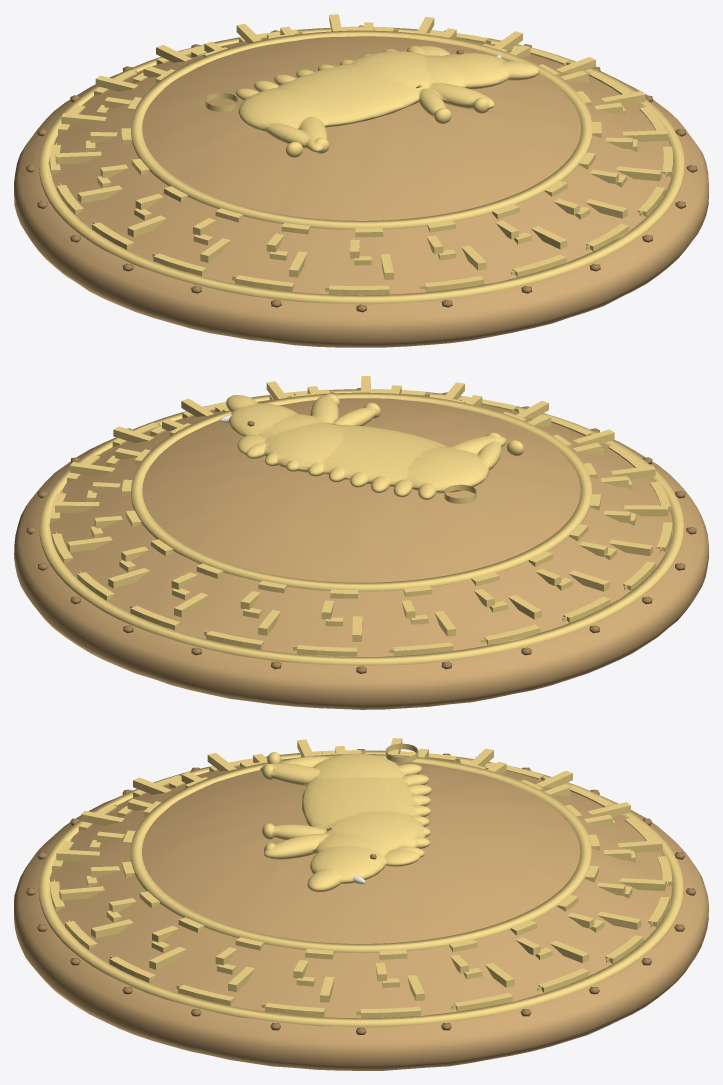
Rendered from shield.glb.
The picture shows the model from 3 angles, top to bottom: view 1: azimuth 30°, elevation 25°; view 2: azimuth 150°, elevation 25°; view 3: azimuth 270°, elevation 25°; orthographic projection.
Visible parts, largest first — view 1: bowl, meander, boar, rivets; view 2: bowl, meander, boar, rivets; view 3: bowl, meander, boar, rivets.
Part boxes in pixels (x1,y1,x2,y2): bowl: (14, 36, 708, 347); meander: (39, 14, 684, 304); boar: (236, 45, 539, 157); rivets: (26, 25, 697, 312); bowl: (14, 398, 708, 709); meander: (39, 376, 683, 665); boar: (226, 394, 523, 499); rivets: (26, 388, 696, 673); bowl: (14, 759, 708, 1070); meander: (38, 738, 683, 1027); boar: (260, 752, 431, 892); rivets: (26, 749, 695, 1034).
Size of the model in its own units: 0.6802 by 0.1605 by 0.6806.
